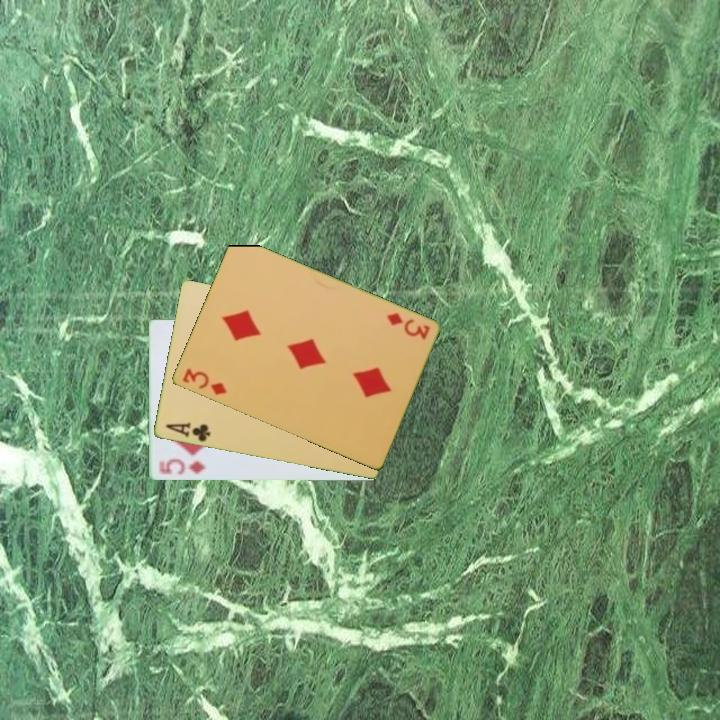3d: (383, 309, 432, 343), (179, 365, 229, 398)
5d: (154, 456, 209, 478)
Ac: (162, 419, 213, 445)
